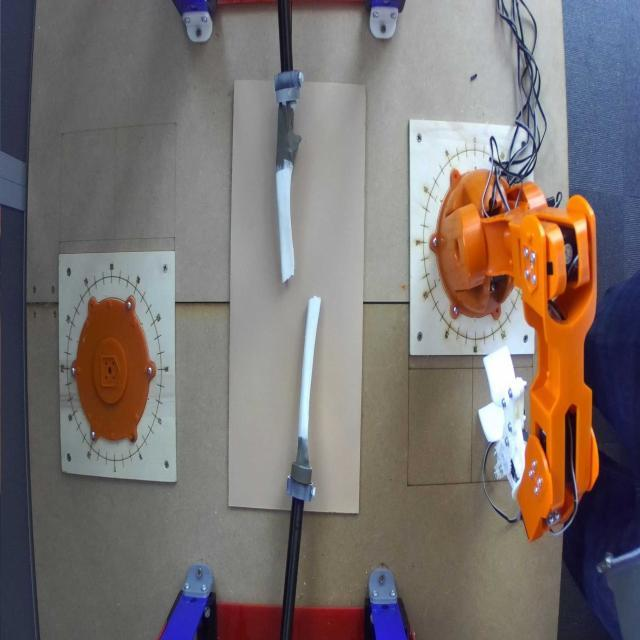bone: (288, 291, 326, 448), (270, 146, 306, 288)
